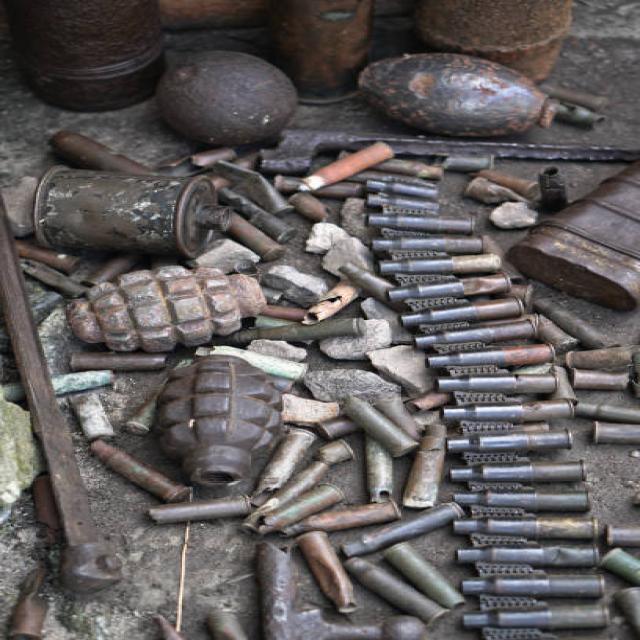grenade: (65, 265, 275, 363), (155, 351, 283, 496)
